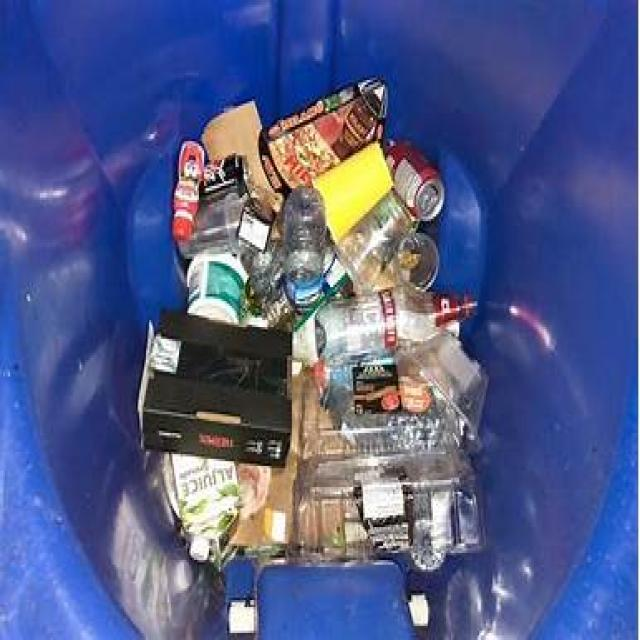Garbage: (139, 78, 488, 571)
Glass_bottle: (315, 286, 476, 361)
Plastic: (291, 452, 482, 571), (400, 333, 488, 449), (188, 254, 248, 324)
Plastic_Glass: (336, 190, 414, 293), (179, 184, 248, 258), (396, 232, 439, 290)
Plastic_bottle: (341, 408, 455, 454), (284, 188, 326, 310), (172, 140, 205, 242), (250, 213, 282, 303)
can: (389, 144, 445, 220)
